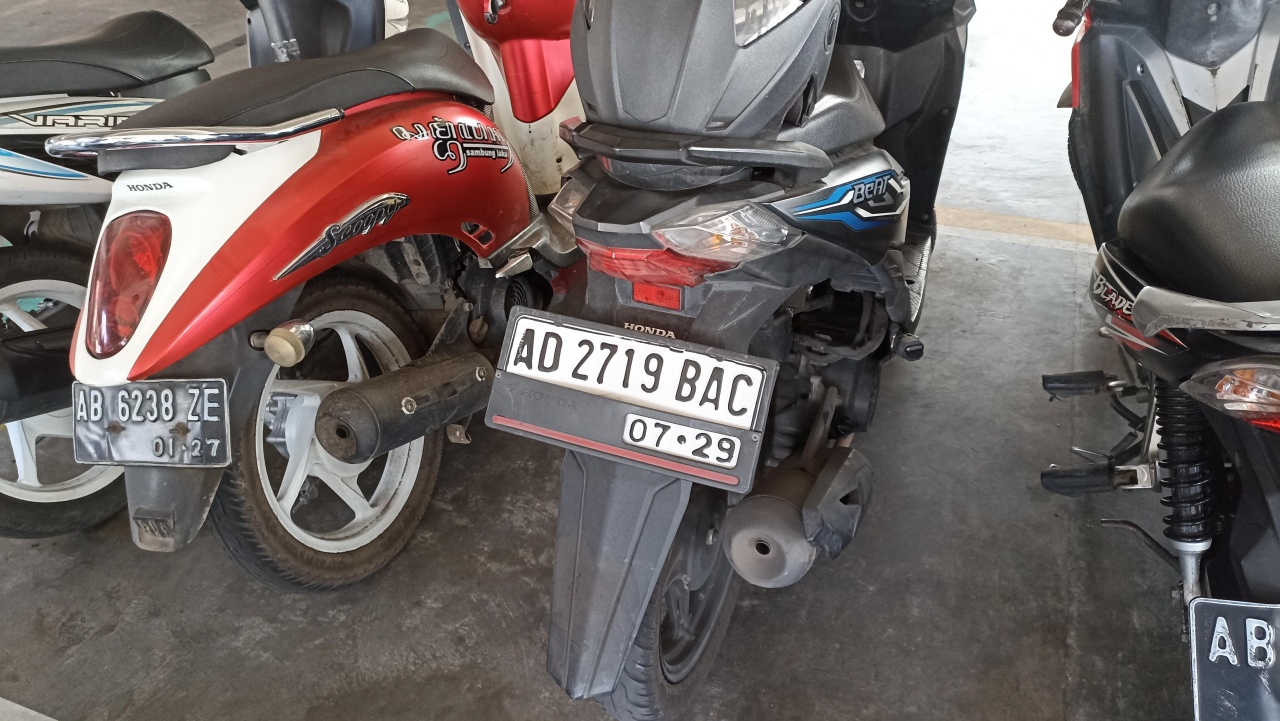plate: (483, 305, 781, 493), (71, 377, 229, 469)
